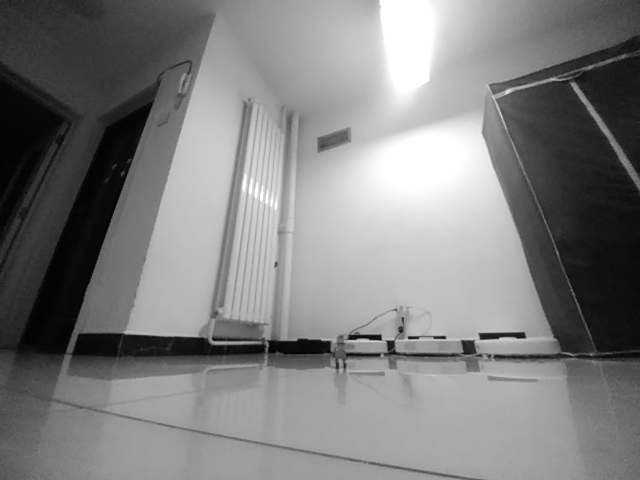toy: (332, 334, 348, 371)
